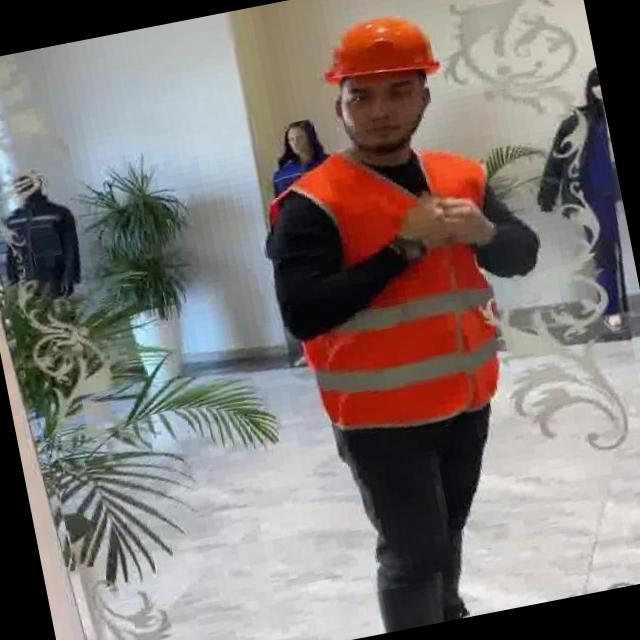hard_hat: (314, 6, 444, 93)
safety_vest: (259, 128, 538, 449)
